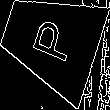P_W: (24, 15, 77, 67)
